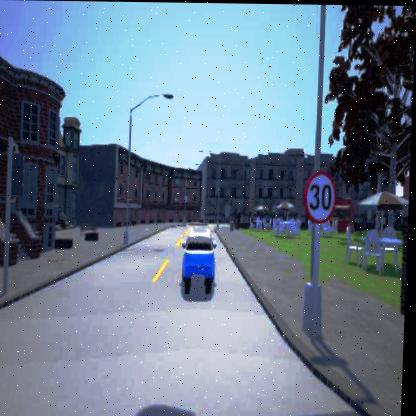vehicle: (182, 221, 218, 293)
